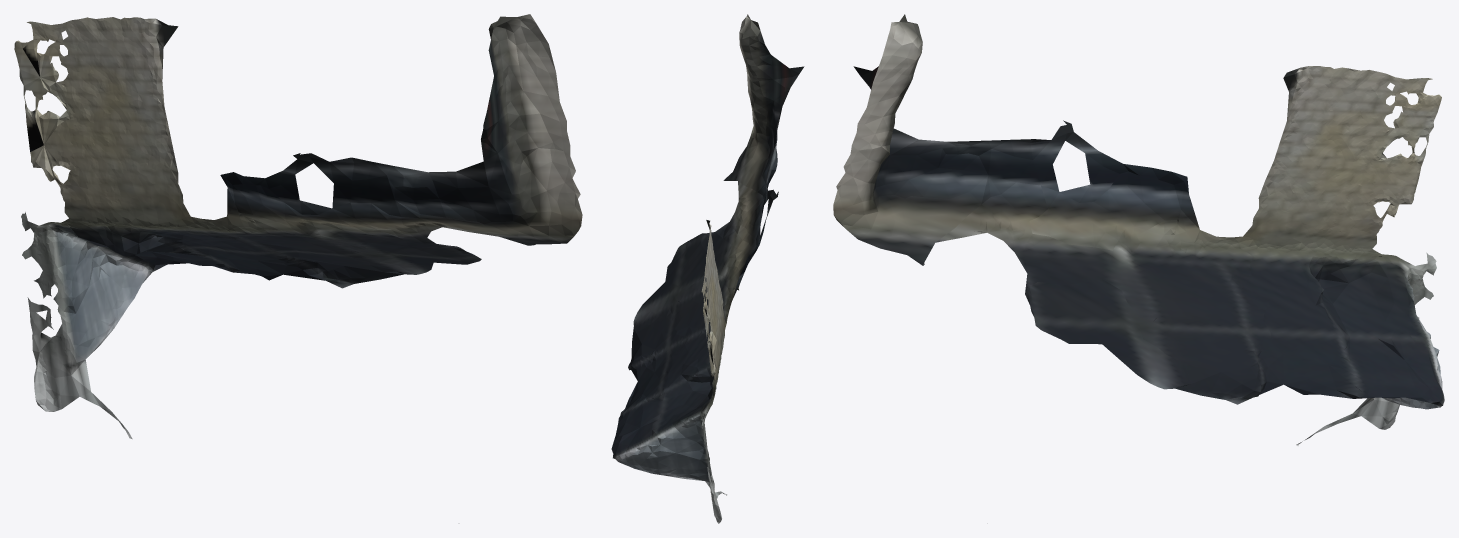
File: texturedMesh.obj
The picture shows the model from 3 angles, left to right: view 1: azimuth 30°, elevation 25°; view 2: azimuth 150°, elevation 25°; view 3: azimuth 270°, elevation 25°; orthographic projection. The views are drawn at different scales.
Visible parts, largest first — view 1: TexturedMesh; view 2: TexturedMesh; view 3: TexturedMesh.
Boxes of the visible parts, x1,y1,x2,y2 form: TexturedMesh: (14, 14, 582, 439); TexturedMesh: (611, 14, 804, 523); TexturedMesh: (833, 14, 1444, 446).
Bounding box in the file's own units: 1.19 × 2.37 × 2.57.
1 material, 1 textured.
